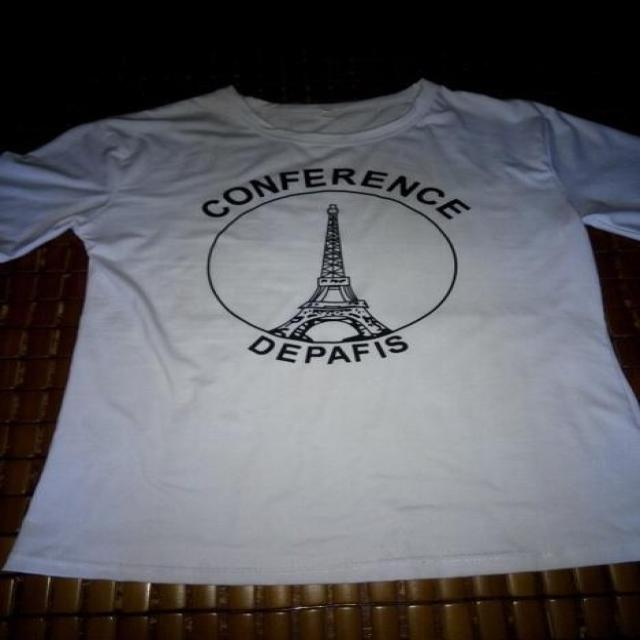short sleeve top: (3, 83, 639, 585)
